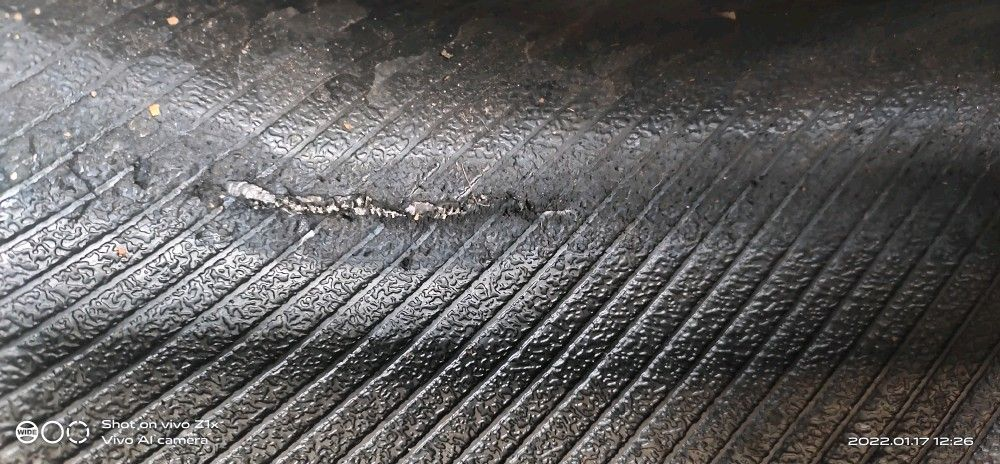CBU: (206, 180, 553, 235)
